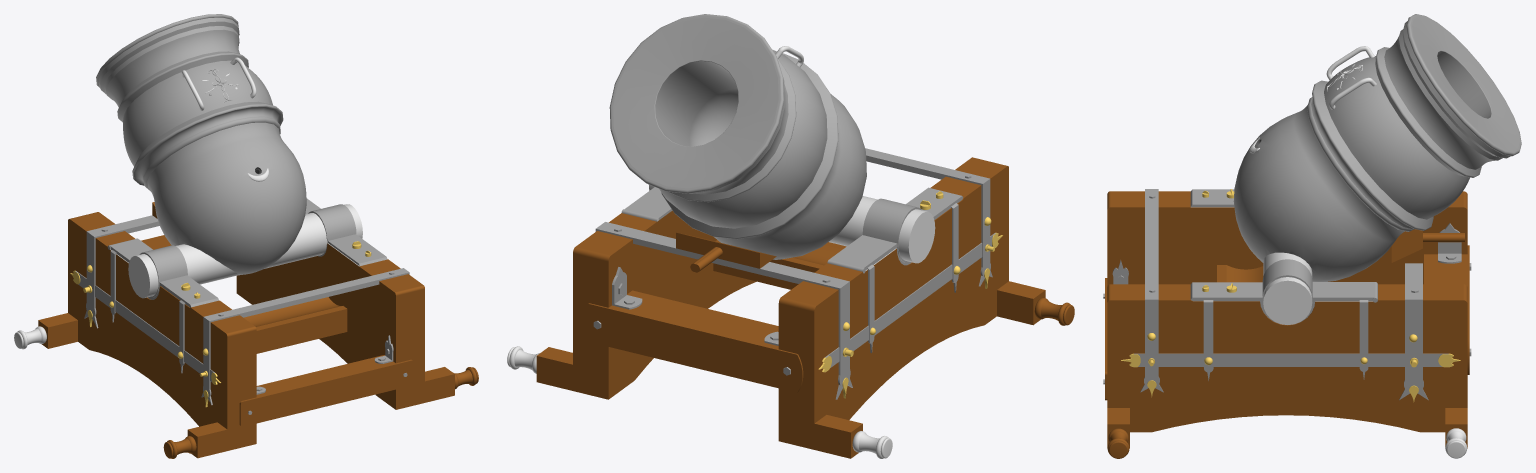
3 views of the same model, side by side, from view 1: azimuth 30°, elevation 25°; view 2: azimuth 150°, elevation 25°; view 3: azimuth 270°, elevation 25° (orthographic). The views are drawn at different scales.
Visible parts, largest first — view 1: Group_001, Group_022, Group_024, Group_004, Group_023; view 2: Group_022, Group_001, Group_024, Group_004, Group_023, Group_025; view 3: Group_024, Group_001, Group_022, Group_004, Group_025.
Boxes of the visible parts, x1,y1,x2,y2 form: Group_001: (96,14,306,275); Group_022: (38,212,327,458); Group_024: (152,197,478,409); Group_004: (128,204,362,298); Group_023: (14,326,46,349); Group_022: (676,149,1074,458); Group_001: (609,14,866,259); Group_024: (536,148,867,399); Group_004: (648,184,935,263); Group_023: (852,431,892,458); Group_025: (507,346,539,373); Group_024: (1103,229,1471,458); Group_001: (1233,14,1521,281); Group_022: (1103,189,1471,324); Group_004: (1263,252,1312,324); Group_025: (1445,428,1467,458).
Bounding box in the file's own units: 187 × 181 × 195.
